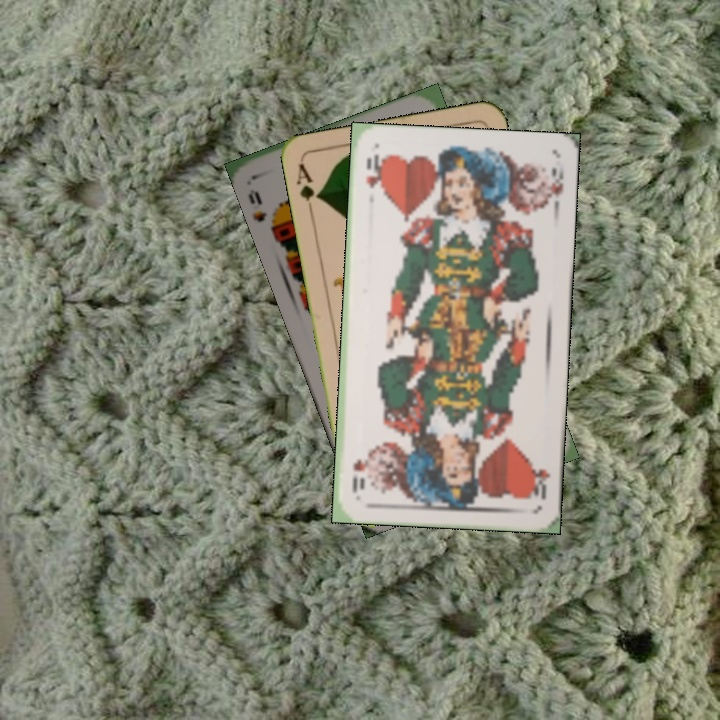GA: (292, 159, 324, 218)
HO: (526, 458, 553, 501), (362, 150, 384, 191)
S9: (244, 185, 283, 235)
